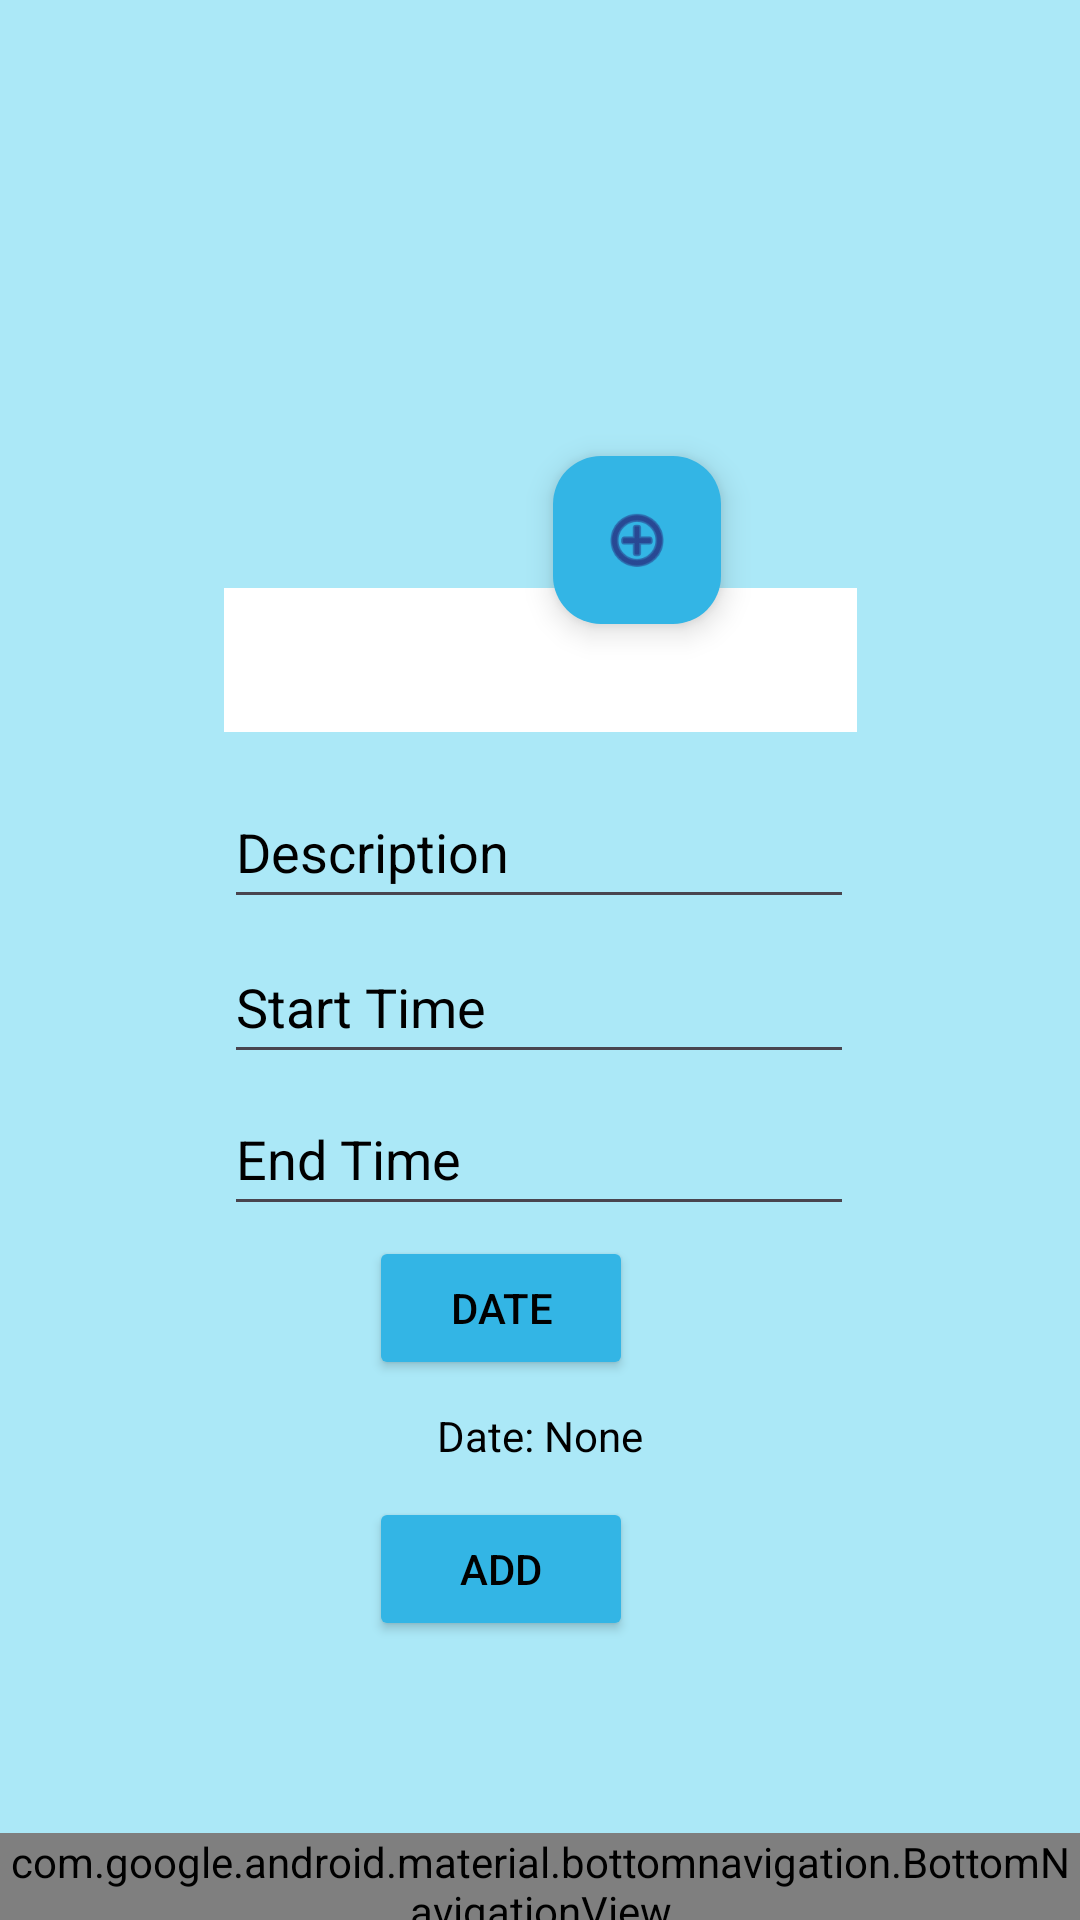

Locate icon controls on the screen. Image size 1080×1920, boxes as (x1, y1, x2, y2).
add: (553, 456, 721, 624)
